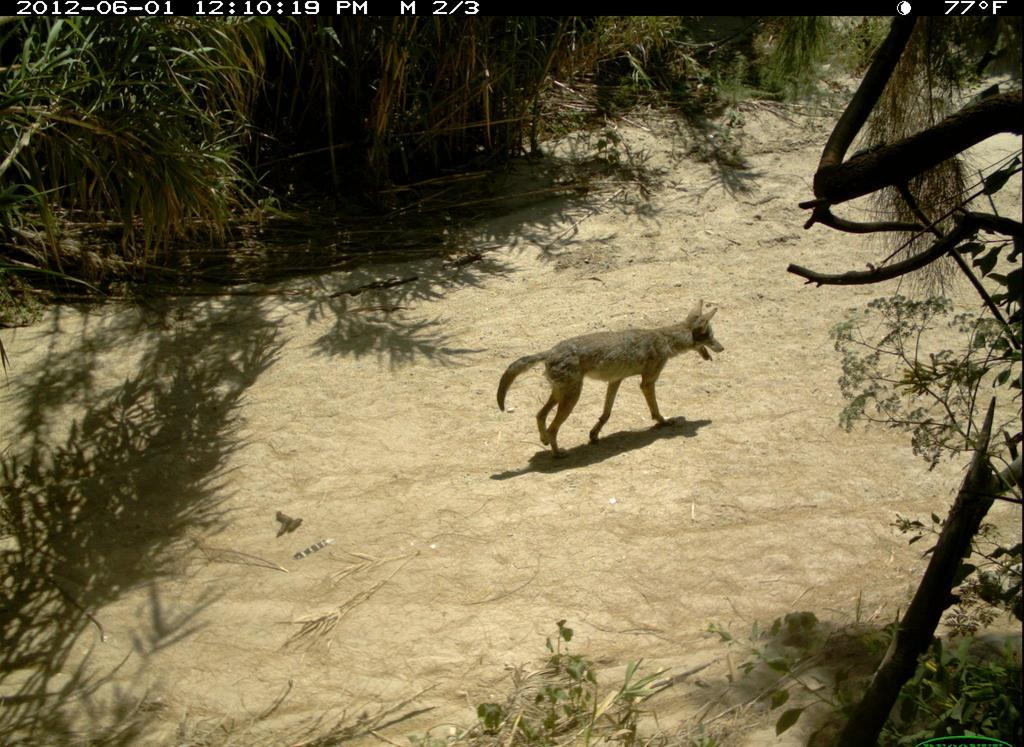coyote: (489, 300, 730, 466)
